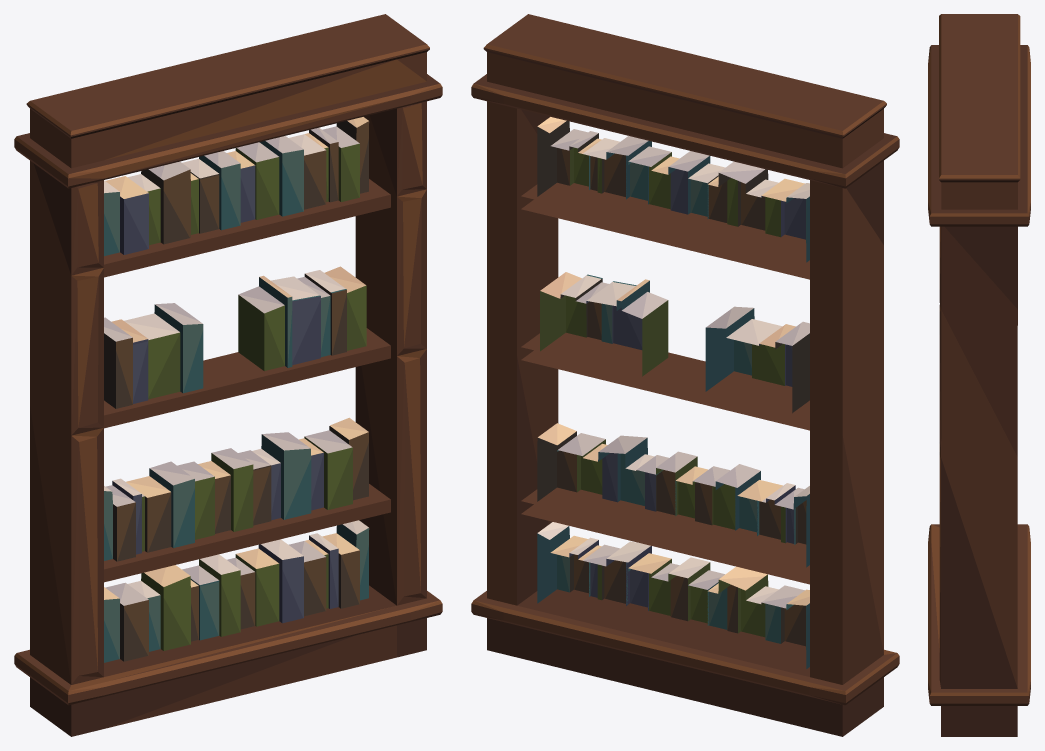
The model's file is bookshelf_downstairs.fbx.
3 renders of one model, left to right at view 1: azimuth 30°, elevation 25°; view 2: azimuth 150°, elevation 25°; view 3: azimuth 270°, elevation 25°, orthographic. The views are drawn at different scales.
Visible parts, largest first — view 1: bookshelf; view 2: bookshelf; view 3: bookshelf.
Part boxes in pixels (<box>): bookshelf: <box>14,14,442,736</box>; bookshelf: <box>471,14,899,736</box>; bookshelf: <box>928,14,1030,736</box>.
Bounding box in the file's own units: 174 × 269 × 44.66.
